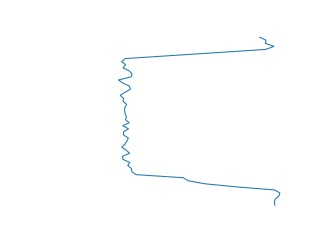distributaryChannelFill: (115, 35, 287, 208)
